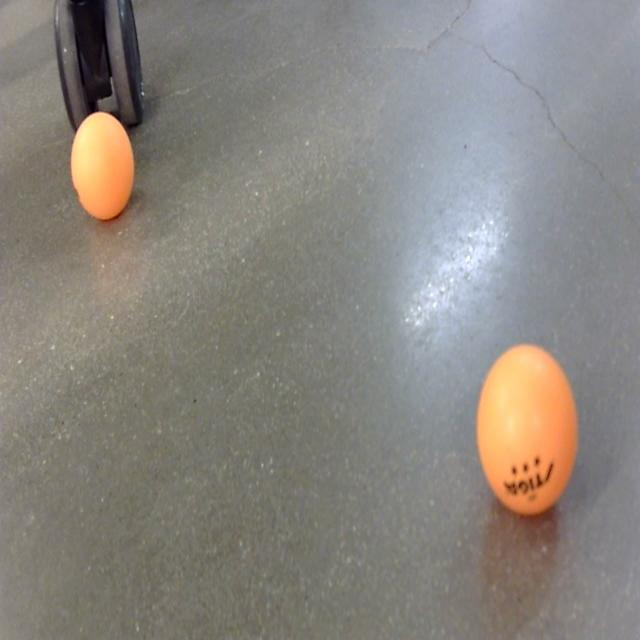ball: (474, 340, 580, 520), (69, 111, 137, 226)
